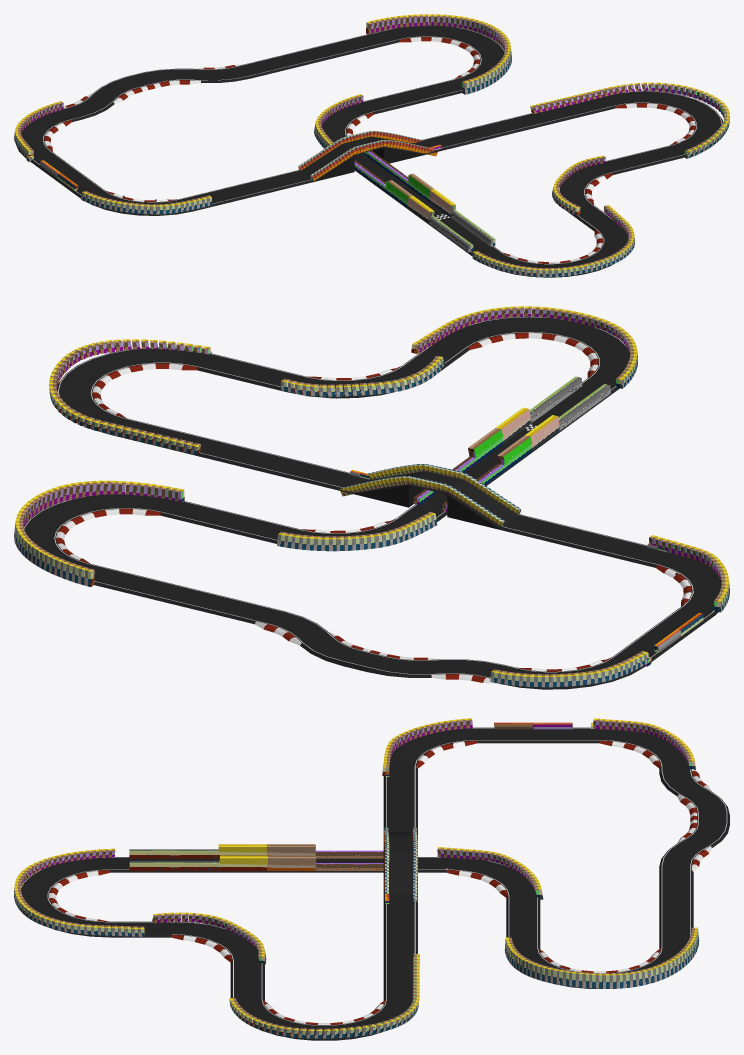
The model's file is trackCol.obj.
3 views of the same model, one above another, from view 1: azimuth 30°, elevation 25°; view 2: azimuth 150°, elevation 25°; view 3: azimuth 270°, elevation 25° (orthographic). The views are drawn at different scales.
Visible parts, largest first — view 1: 30Turn.004, straight.005, 180Turn.001, Cube.014, 180Turn.003, Cube.004, straight.007, Cube.002, 180Turn.002, bridge.001, Cube, straight.006 (+17 smaller); view 2: 30Turn.004, 180Turn.002, 180Turn.001, Cube.014, 180Turn.003, straight.005, Cube.004, straight.007, bridge.001, straight.006, Cube.002, Cube.008 (+17 smaller); view 3: 30Turn.004, Cube.014, straight.005, 180Turn.002, Cube, Cube.001, straight.007, Cube.002, Cube.004, 180Turn.001, straight.006, 90Turn.003 (+16 smaller).
Part boxes in pixels (x1,y1,x2,y2): 30Turn.004: (59,64,259,121); straight.005: (415,97,615,153); 180Turn.001: (603,90,722,157); Cube.014: (366,14,511,94); 180Turn.003: (386,25,504,85); Cube.004: (530,82,729,158); straight.007: (245,30,399,76); Cube.002: (472,205,634,277); 180Turn.002: (488,224,628,277); bridge.001: (297,136,427,182); Cube: (365,151,495,246); straight.006: (179,170,310,211); 30Turn.004: (255,608,516,683); 180Turn.002: (440,316,630,383); 180Turn.001: (57,347,214,434); Cube.014: (14,480,184,586); 180Turn.003: (23,493,176,567); straight.005: (109,418,367,493); Cube.004: (49,339,211,454); straight.007: (86,564,272,624); bridge.001: (352,471,521,530); straight.006: (504,515,672,567); Cube.002: (411,306,637,388); Cube.008: (277,512,437,551); 30Turn.004: (659,766,729,871); Cube.014: (504,927,699,988); straight.005: (383,896,417,1000); 180Turn.002: (21,857,109,937); Cube: (129,855,383,870); Cube.001: (129,844,383,858); straight.007: (659,870,693,948); Cube.002: (14,848,144,936); Cube.004: (229,954,419,1038); 180Turn.001: (232,999,412,1040); straight.006: (383,766,417,832); 90Turn.003: (171,922,258,962).
Bounding box in the file's own units: 244 × 11.39 × 234.
Materials: 1 (1 with a texture image).
